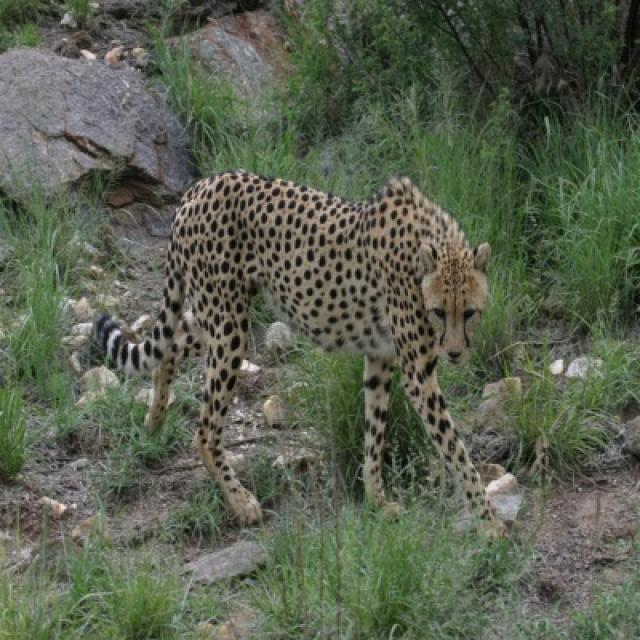Cheetah: (93, 163, 520, 550)
